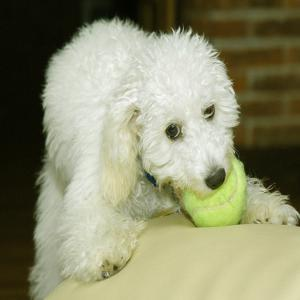TennisBall: (184, 156, 247, 228)
